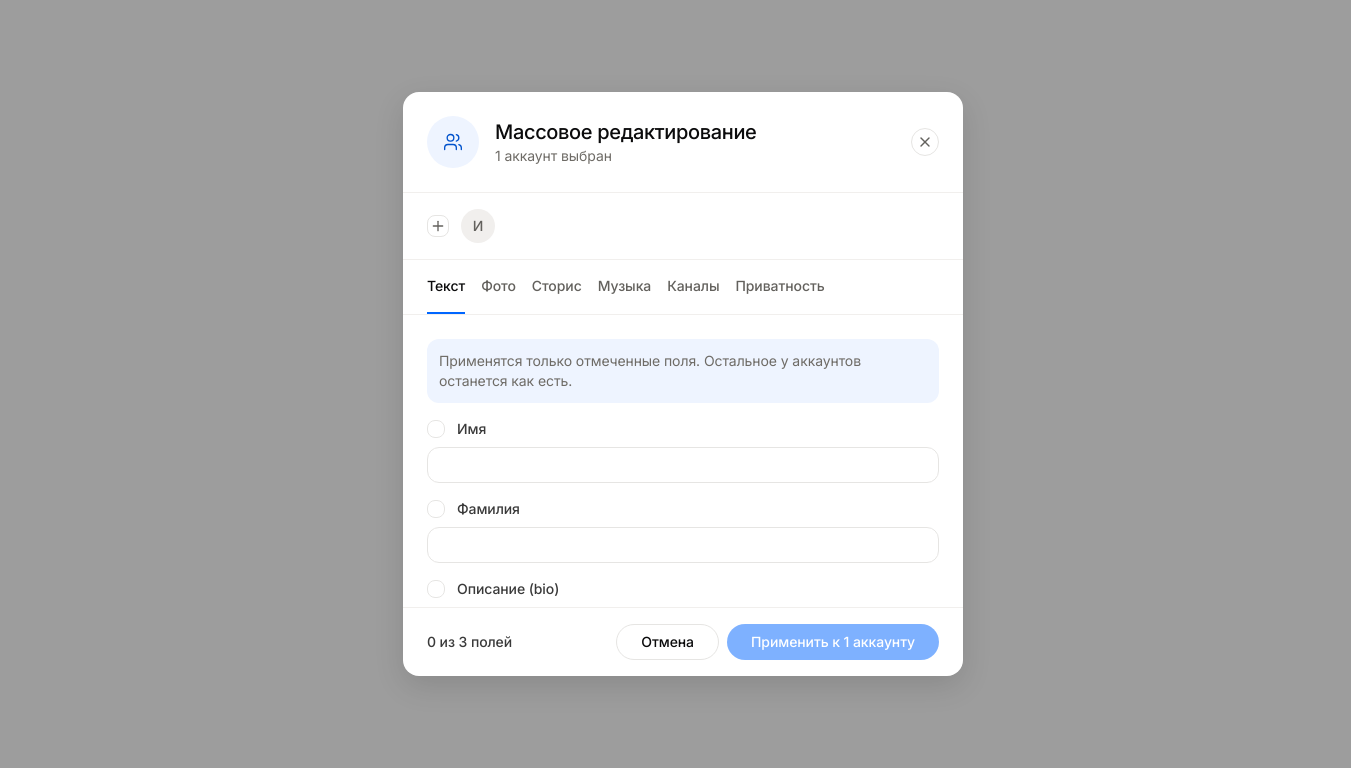
a public create without {n} stays blocked for a batch, allowed for one account
Click the tab "Каналы".
click(693, 287)  # box [667,260,720,314]
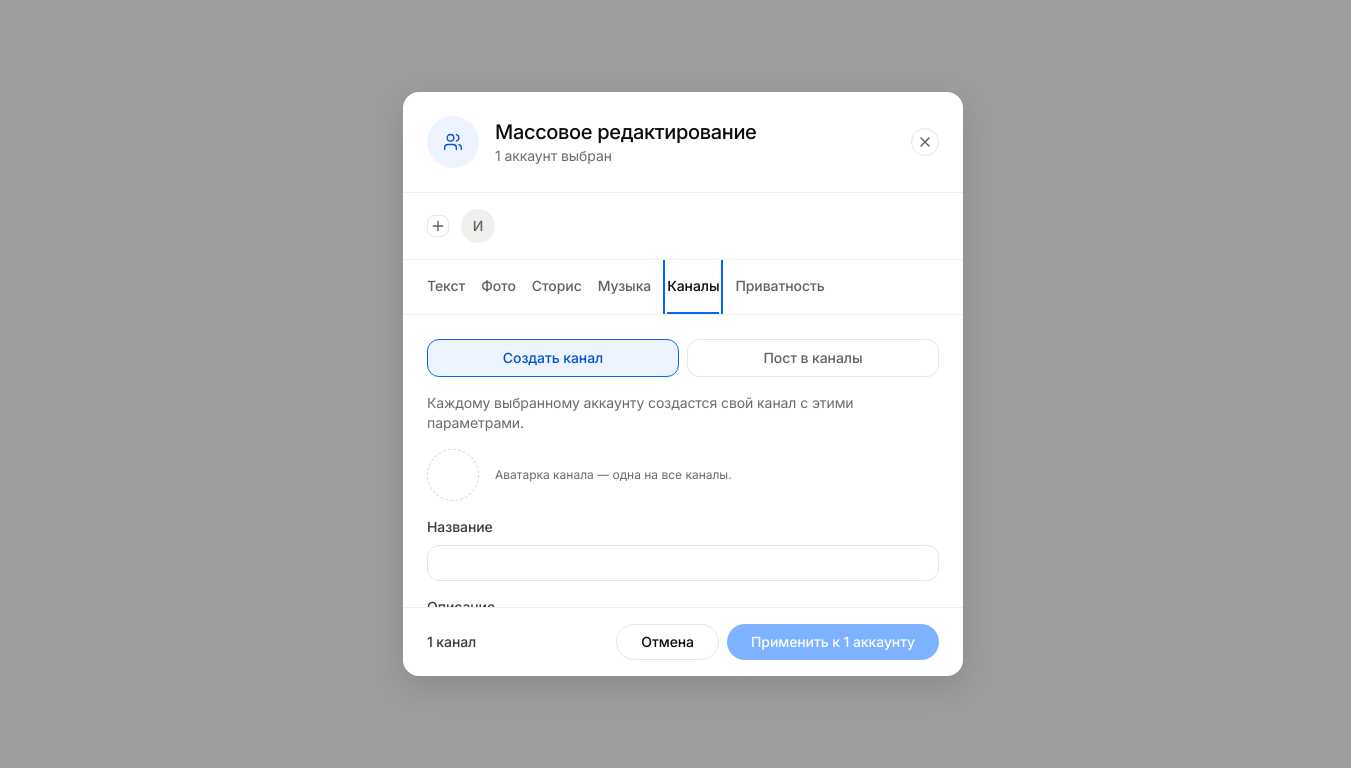
Type "Скидки" into the field labelled "Название".
click(683, 563); type("Скидки")  # box [427,545,939,581]
(page scrolled)
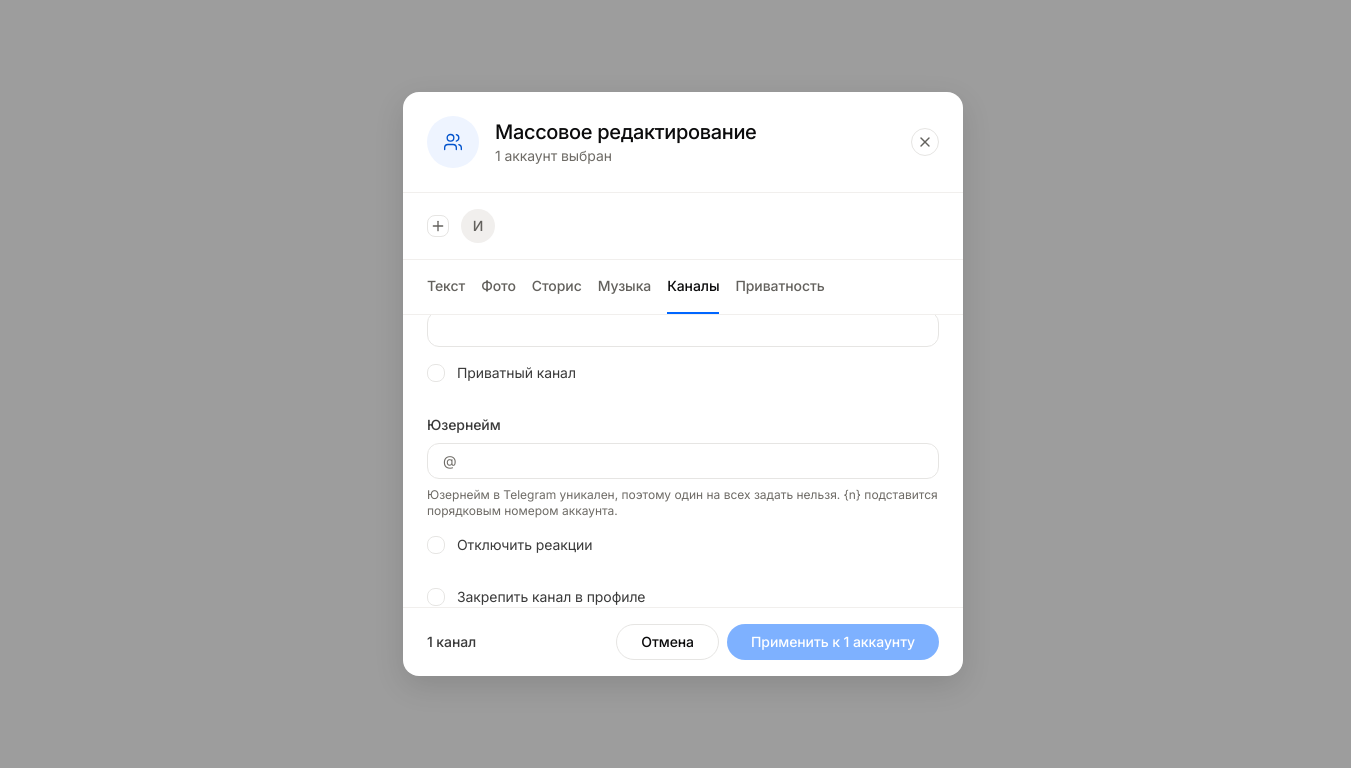
Type "skidki" into the field labelled "Юзернейм".
click(683, 461); type("skidki")  # box [427,443,939,479]
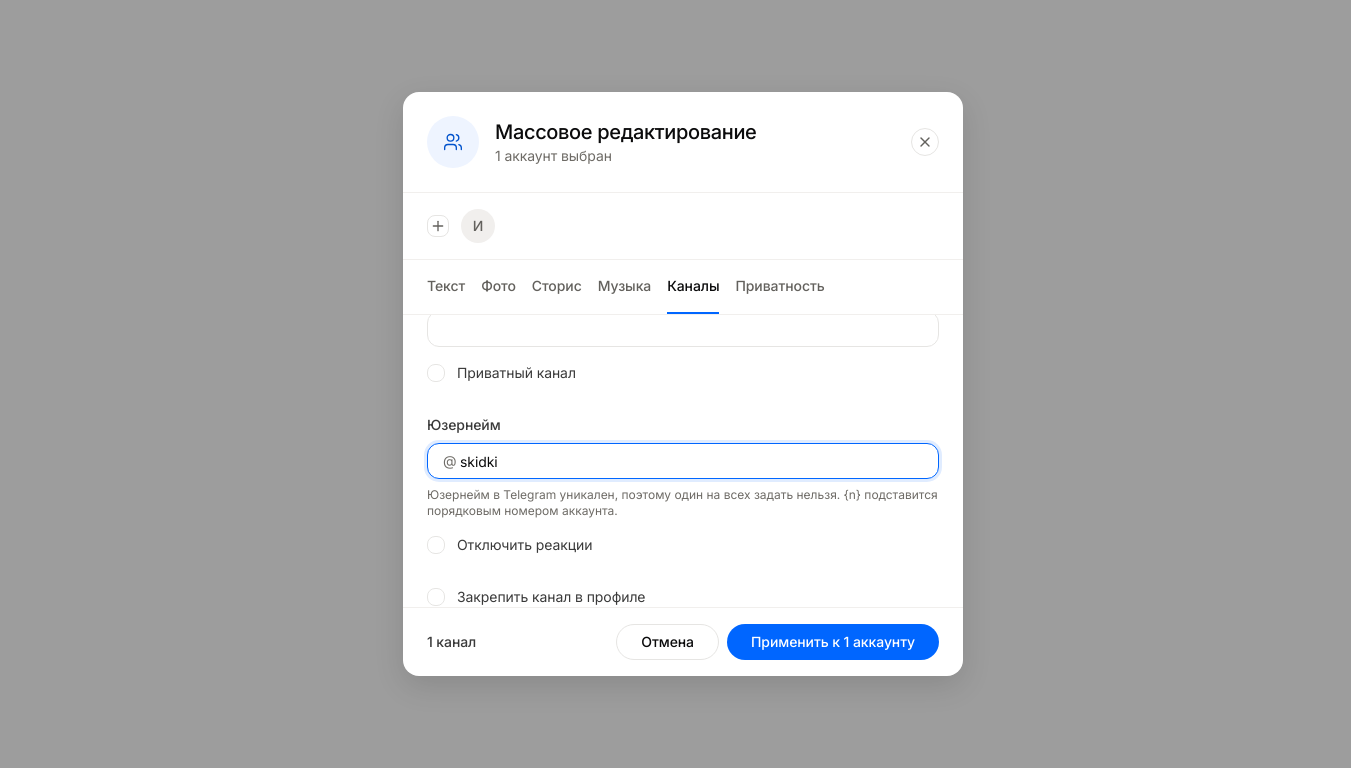
Check: the button "Применить к 1 аккаунту" is enabled, box [727,624,939,660]
Click the button named "Добавить аккаунты".
click(438, 226)  # box [427,215,449,237]
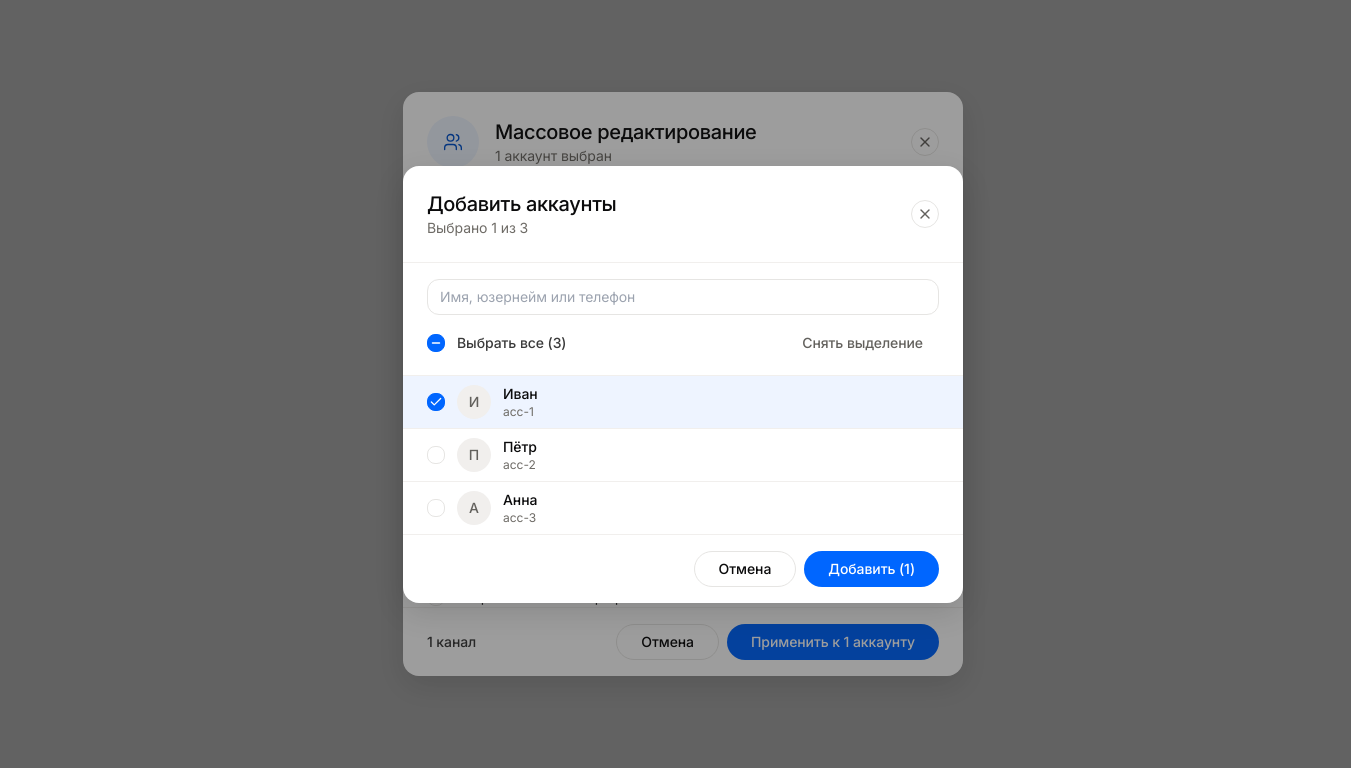
Check: the checkbox labelled "Выбрать все (3)" is shown
Click the checkbox labelled "Выбрать все (3)".
click(497, 342)  # box [427,332,566,352]
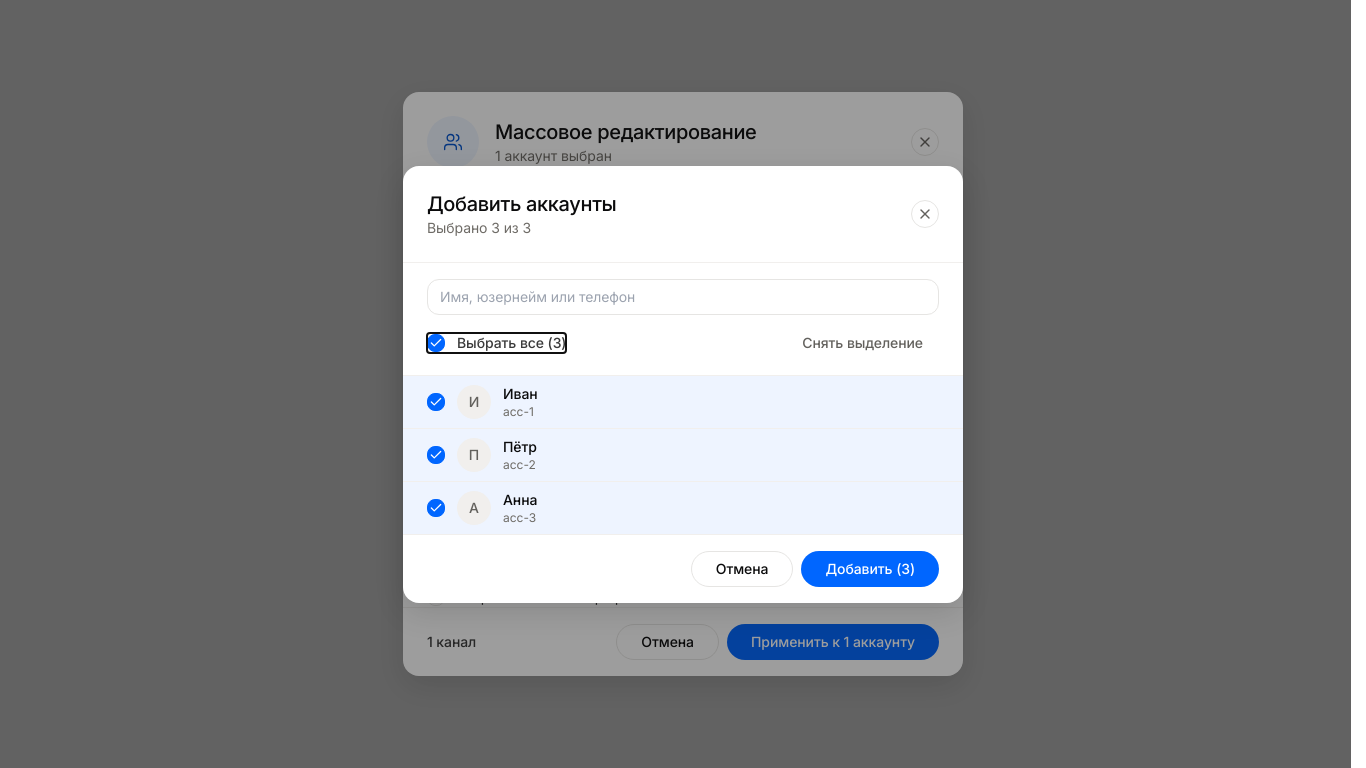
Click the button "Добавить (3)".
click(870, 568)  # box [801,550,939,586]
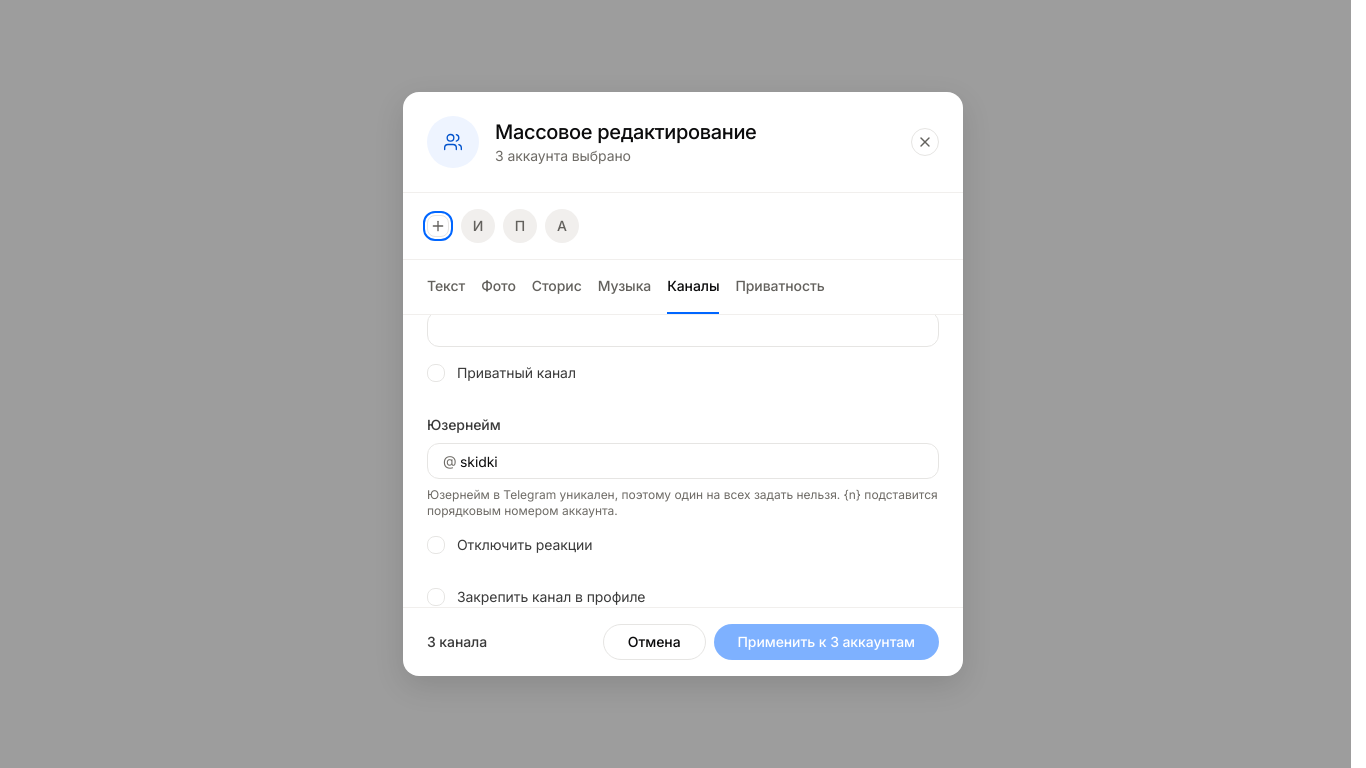
Check: the button "Применить к 3 аккаунтам" is disabled, box [714,624,939,660]
